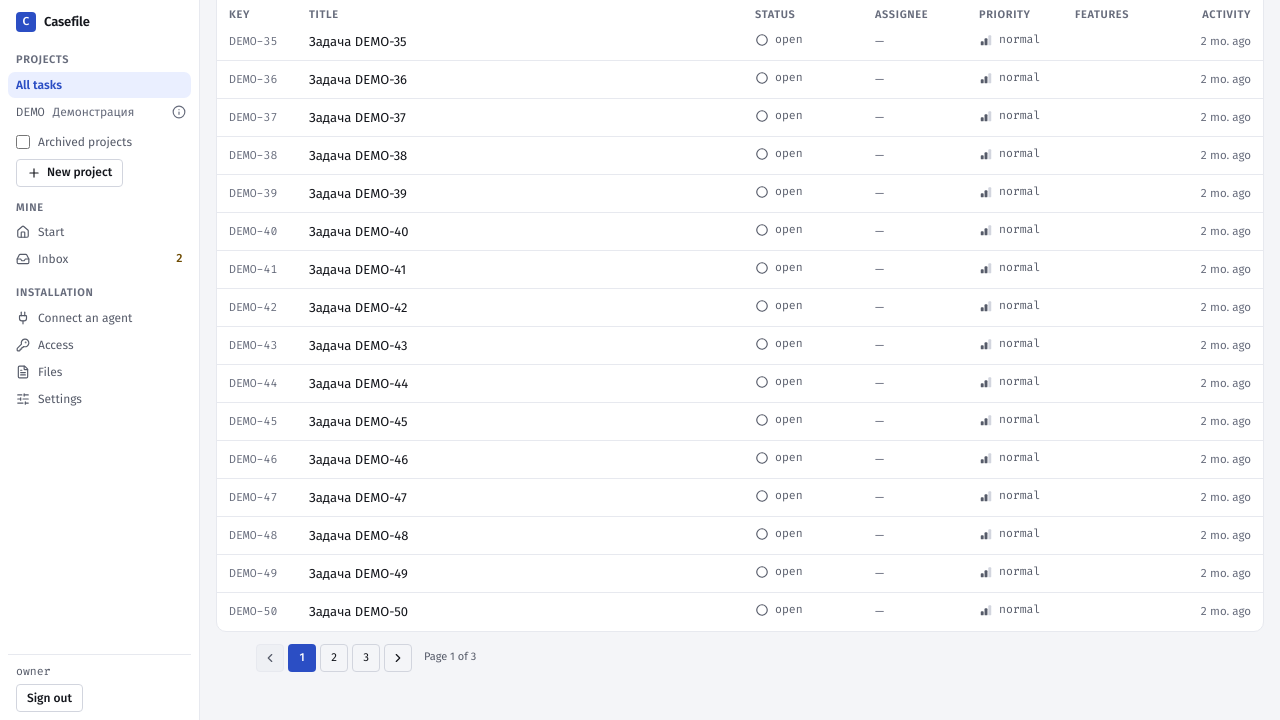
порядок и страницы › ряд страниц уводит на другую страницу выдачи: меняются и строки, и адрес
The image size is (1280, 720).
(page scrolled)
Click the link "2".
click(334, 658)  # box [320,644,348,672]
(page scrolled)
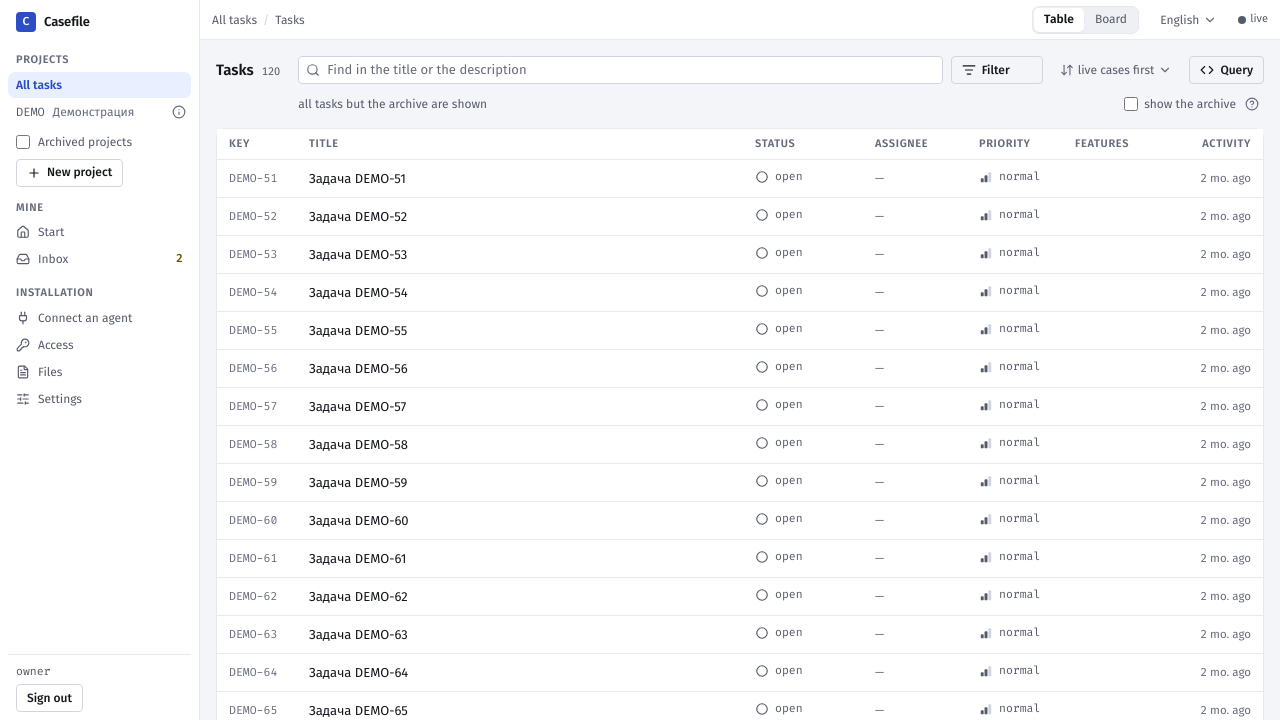
Expected: the column heading "DEMO-51" is shown, [217,160,297,198]
